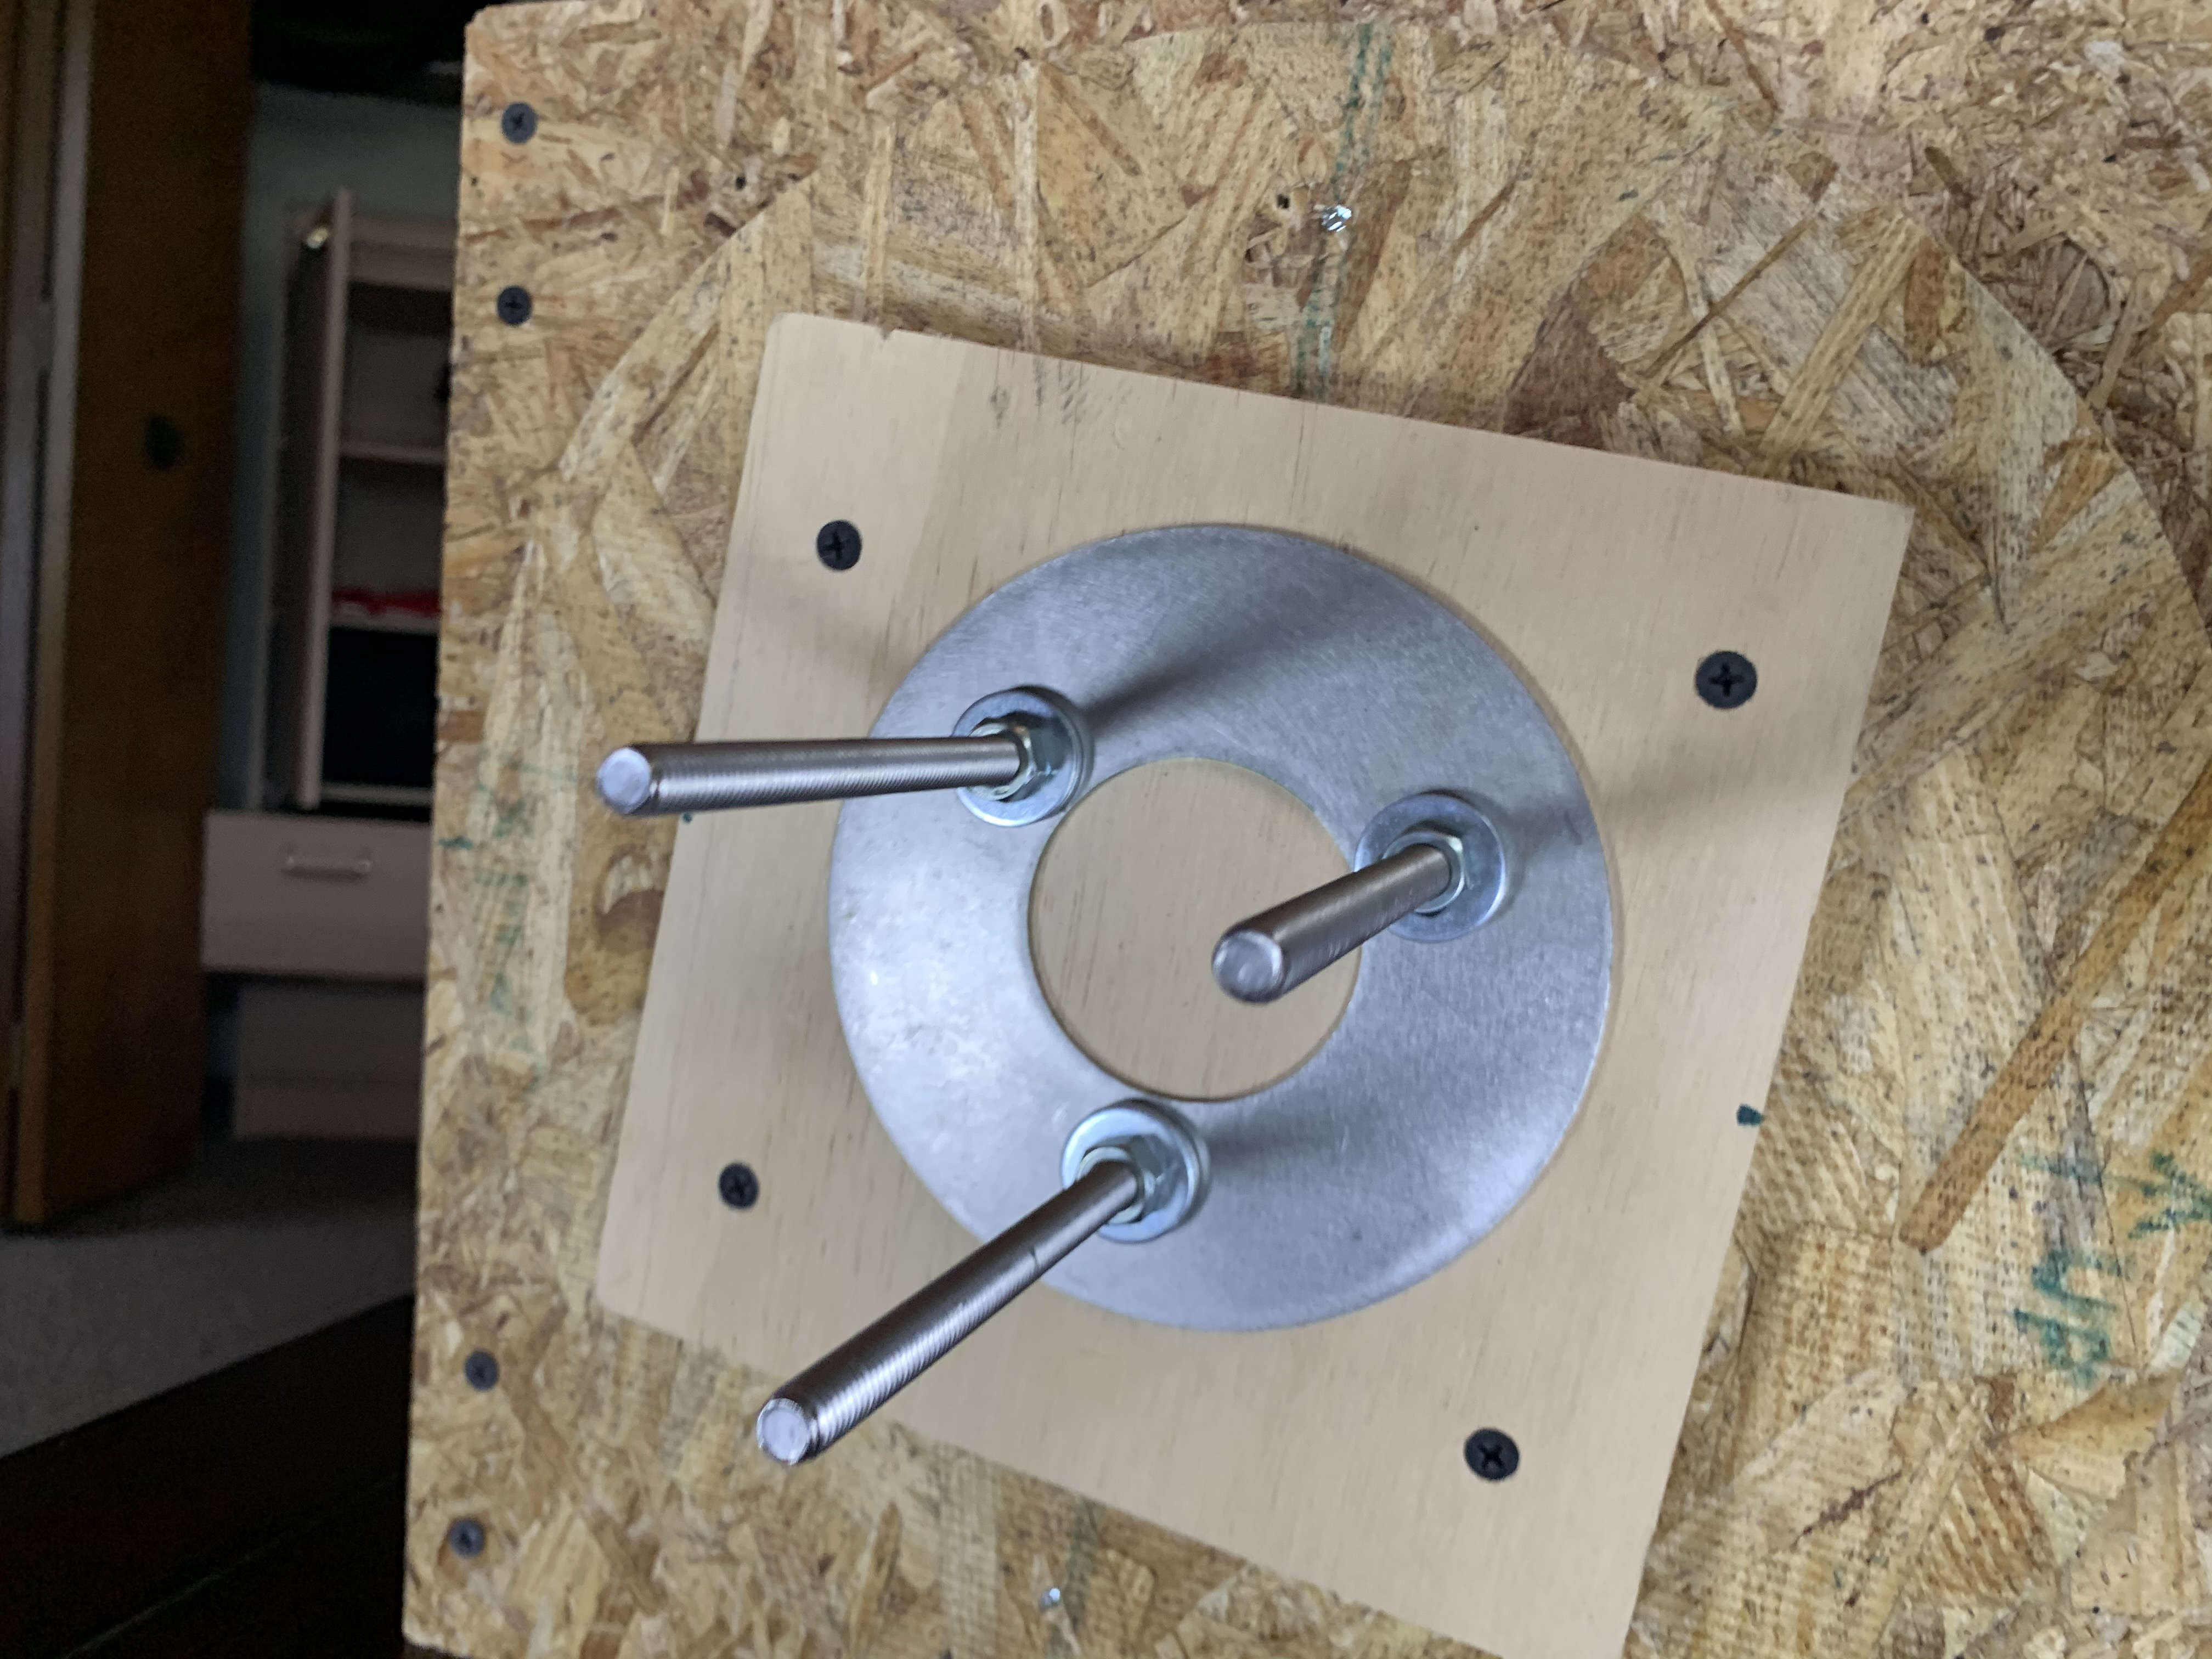bolt: (1353, 788, 1514, 943), (1059, 1096, 1207, 1246), (946, 685, 1090, 828)
